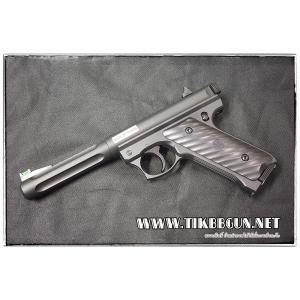gun: (8, 79, 284, 203)
